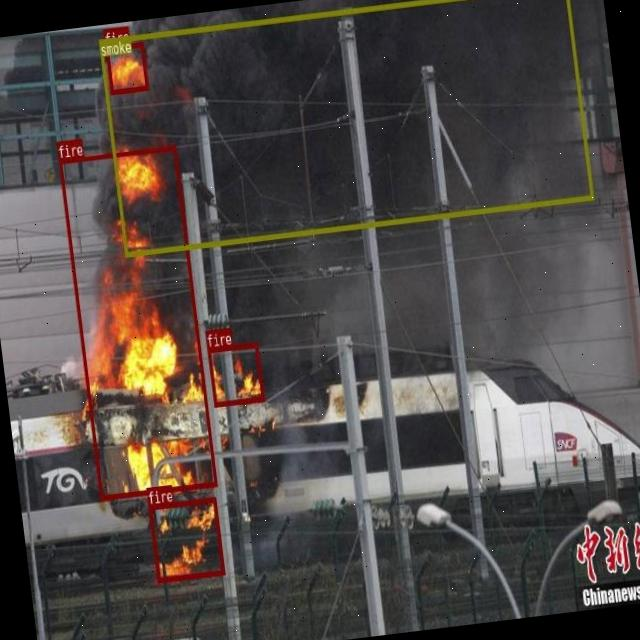fire: (58, 144, 216, 498), (147, 496, 224, 582), (206, 341, 264, 406), (104, 41, 148, 94)
smoke: (98, 0, 593, 256)
